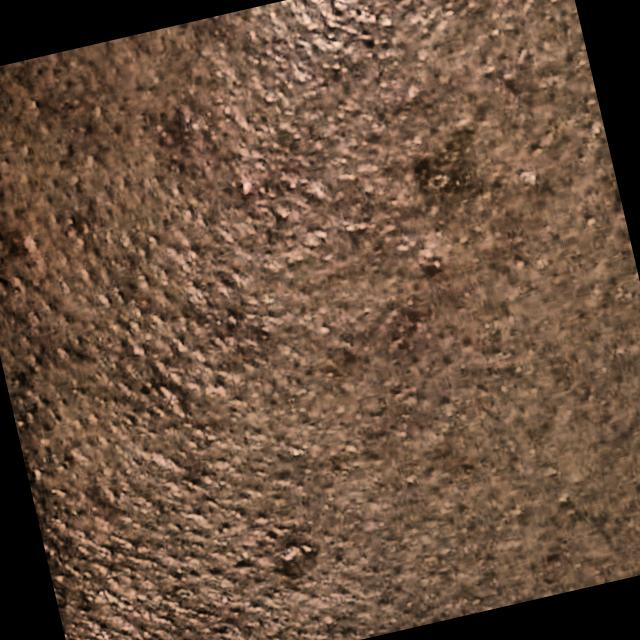whiteheads: (274, 539, 310, 579), (281, 437, 309, 470), (520, 165, 548, 196), (232, 172, 260, 201), (306, 178, 332, 206), (401, 82, 426, 110), (311, 222, 335, 247), (19, 232, 41, 256), (493, 63, 517, 85), (425, 254, 448, 276), (377, 12, 399, 34), (258, 90, 282, 110), (551, 487, 574, 507), (272, 204, 294, 224), (354, 217, 374, 236), (341, 168, 358, 188), (284, 179, 301, 198)
